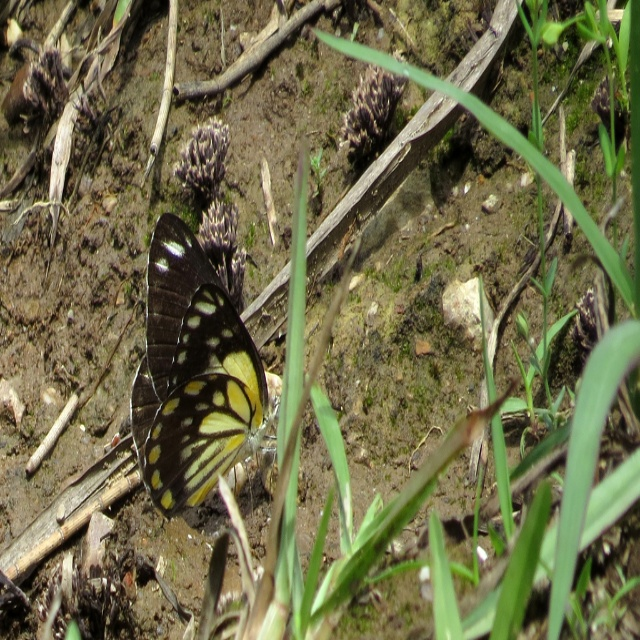Butterfly: (128, 210, 282, 519)
